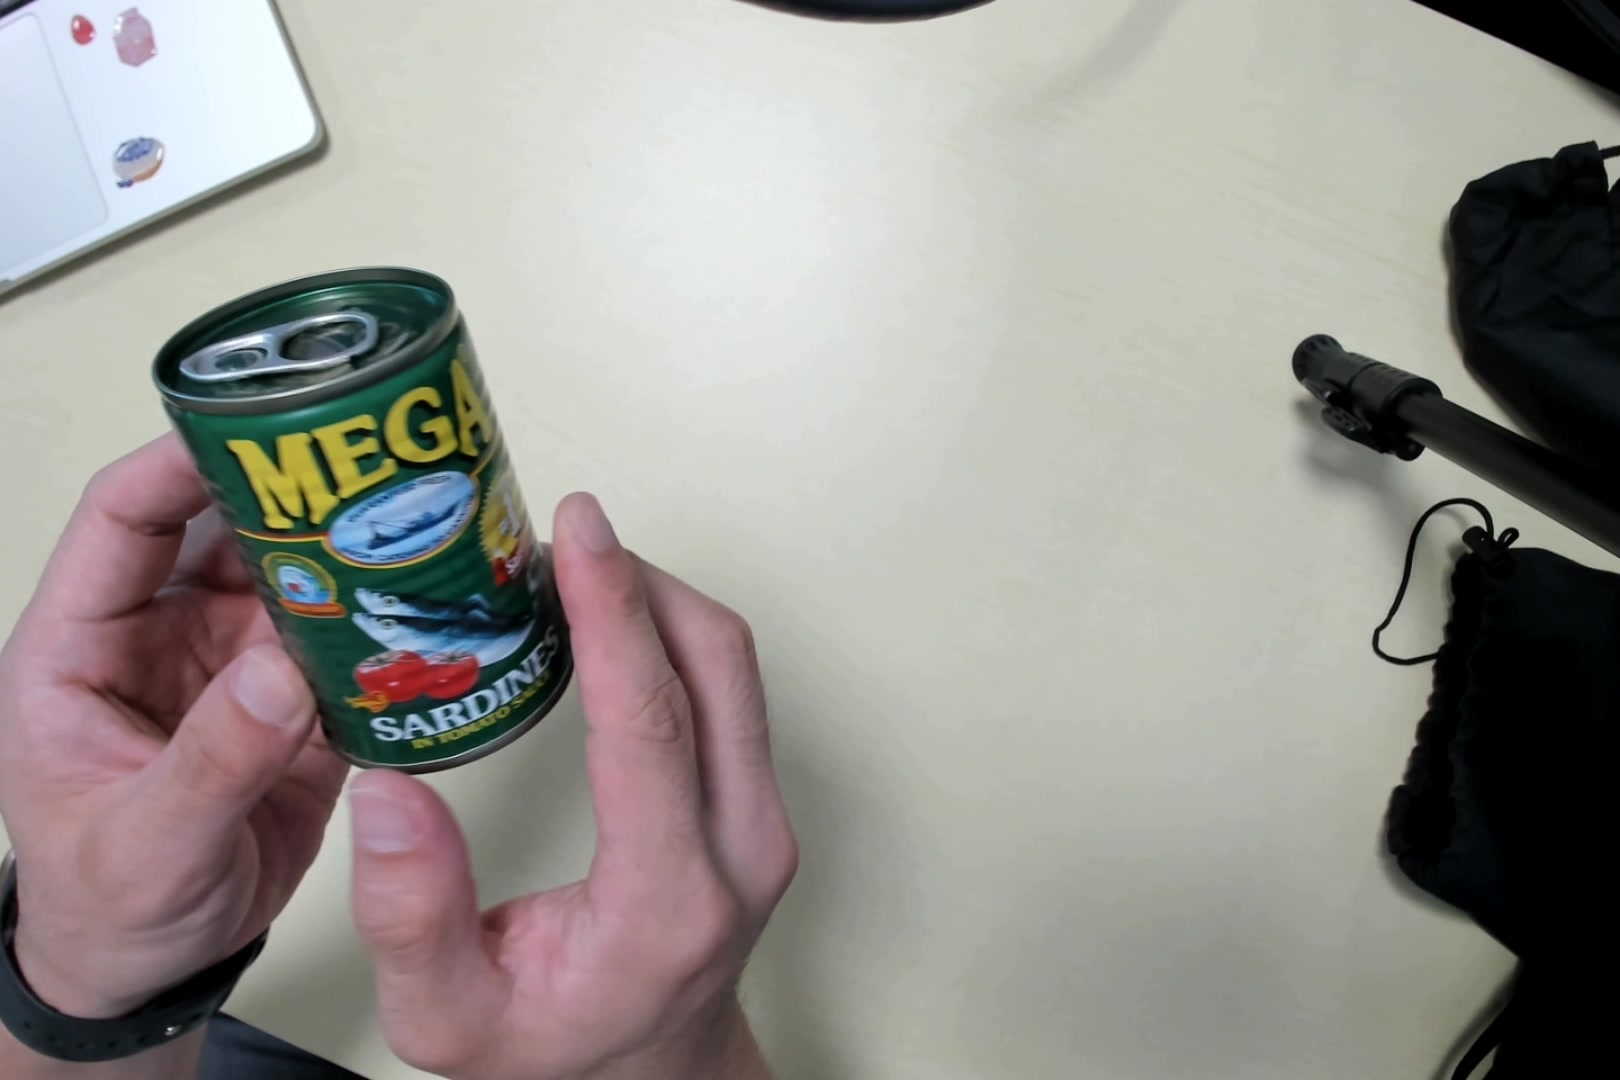CannedSardingMackerel_100-199g_NonHalal_NonHealthy: (165, 270, 575, 763)
